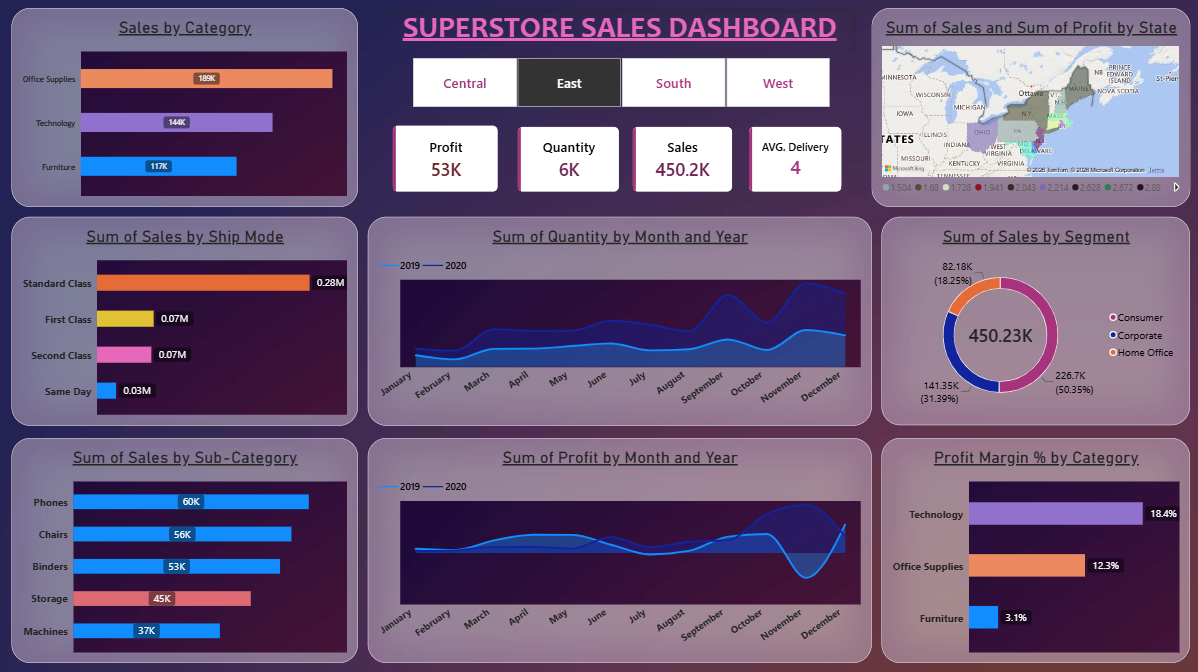

The dashboard page shown, as its layout file describes it:
{"tool":"powerbi","page":{"name":"Page 1","canvas":[1920,1080],"ordinal":0},"visuals":[{"type":"textbox","box":[614,16,758,70],"z":0},{"type":"clusteredBarChart","title":"Sales by Category","fields":{"Category":["SuperStore_Sales_Dataset.Category"],"Y":["Sum(SuperStore_Sales_Dataset.Sales)"]},"box":[20,16,554,318],"z":1000},{"type":"clusteredBarChart","fields":{"Category":["SuperStore_Sales_Dataset.Ship Mode"],"Y":["Sum(SuperStore_Sales_Dataset.Sales)"]},"box":[20,350,554,334],"z":2000},{"type":"clusteredBarChart","fields":{"Category":["SuperStore_Sales_Dataset.Sub-Category"],"Y":["Sum(SuperStore_Sales_Dataset.Sales)"]},"box":[20,704,554,360],"z":3000},{"type":"stackedAreaChart","fields":{"Category":["SuperStore_Sales_Dataset.Order Date.Variation.Date Hierarchy.Month"],"Series":["SuperStore_Sales_Dataset.Order Date.Variation.Date Hierarchy.Year"],"Y":["Sum(SuperStore_Sales_Dataset.Quantity)"]},"box":[590,350,806,334],"z":4000},{"type":"areaChart","fields":{"Category":["SuperStore_Sales_Dataset.Order Date.Variation.Date Hierarchy.Month"],"Series":["SuperStore_Sales_Dataset.Order Date.Variation.Date Hierarchy.Year"],"Y":["Sum(SuperStore_Sales_Dataset.Profit)"]},"box":[590,704,806,360],"z":5000},{"type":"donutChart","fields":{"Category":["SuperStore_Sales_Dataset.Segment"],"Y":["Sum(SuperStore_Sales_Dataset.Sales)"]},"box":[1412,349.9,494,333.4],"z":6000},{"type":"clusteredBarChart","fields":{"Category":["SuperStore_Sales_Dataset.Category"],"Y":["SuperStore_Sales_Dataset.Profit Margin %"]},"box":[1412,703.9,494,360.2],"z":7000},{"type":"slicer","fields":{"Values":["SuperStore_Sales_Dataset.Region"]},"box":[642,94,706,82],"z":8000},{"type":"cardVisual","fields":{"Data":["Sum(SuperStore_Sales_Dataset.Profit)"]},"box":[629.8,204.5,168.3,106.8],"z":9000},{"type":"cardVisual","fields":{"Data":["Sum(SuperStore_Sales_Dataset.Quantity)"]},"box":[830.6,206.3,162.9,105],"z":10000},{"type":"cardVisual","fields":{"Data":["Sum(SuperStore_Sales_Dataset.Sales)"]},"box":[1013.4,206.3,159.3,105],"z":11000},{"type":"cardVisual","fields":{"Data":["Avg(SuperStore_Sales_Dataset.Ave_Delivery)"]},"box":[1199.8,206.3,148.4,105],"z":12000},{"type":"filledMap","title":"Sum of Sales and Sum of Profit by State","fields":{"Category":["SuperStore_Sales_Dataset.State"],"Series":["SuperStore_Sales_Dataset.Sales"]},"box":[1395.2,16.3,510.3,318.5],"z":13000}]}

Visuals, with their boxes in screenshot pixels (x1, y1, x2, y2), scaled from the page's 1920x1080 canvas onto the 1198x672 screenshot:
textbox: 383,10,856,54
"Sales by Category" clusteredBarChart: 12,10,358,208
clusteredBarChart - SuperStore_Sales_Dataset.Ship Mode x Sum(SuperStore_Sales_Dataset.Sales): 12,218,358,426
clusteredBarChart - SuperStore_Sales_Dataset.Sub-Category x Sum(SuperStore_Sales_Dataset.Sales): 12,438,358,662
stackedAreaChart - SuperStore_Sales_Dataset.Order Date.Variation.Date Hierarchy.Month x SuperStore_Sales_Dataset.Order Date.Variation.Date Hierarchy.Year: 368,218,871,426
areaChart - SuperStore_Sales_Dataset.Order Date.Variation.Date Hierarchy.Month x SuperStore_Sales_Dataset.Order Date.Variation.Date Hierarchy.Year: 368,438,871,662
donutChart - SuperStore_Sales_Dataset.Segment x Sum(SuperStore_Sales_Dataset.Sales): 881,218,1189,425
clusteredBarChart - SuperStore_Sales_Dataset.Category x SuperStore_Sales_Dataset.Profit Margin %: 881,438,1189,662
slicer - SuperStore_Sales_Dataset.Region: 401,58,841,110
cardVisual - Sum(SuperStore_Sales_Dataset.Profit): 393,127,498,194
cardVisual - Sum(SuperStore_Sales_Dataset.Quantity): 518,128,620,194
cardVisual - Sum(SuperStore_Sales_Dataset.Sales): 632,128,732,194
cardVisual - Avg(SuperStore_Sales_Dataset.Ave_Delivery): 749,128,841,194
"Sum of Sales and Sum of Profit by State" filledMap: 871,10,1189,208
